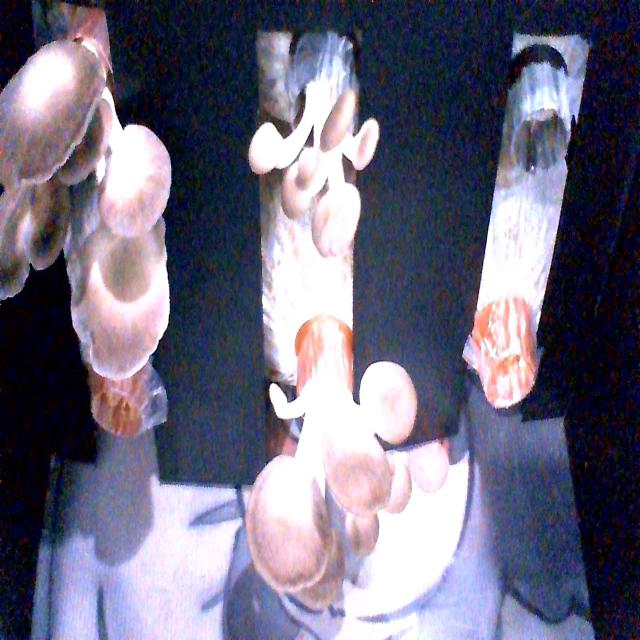big: (0, 42, 179, 378), (247, 342, 426, 614)
nfound: (471, 302, 548, 414), (513, 94, 571, 190), (87, 367, 157, 443)
small: (239, 73, 387, 256)
